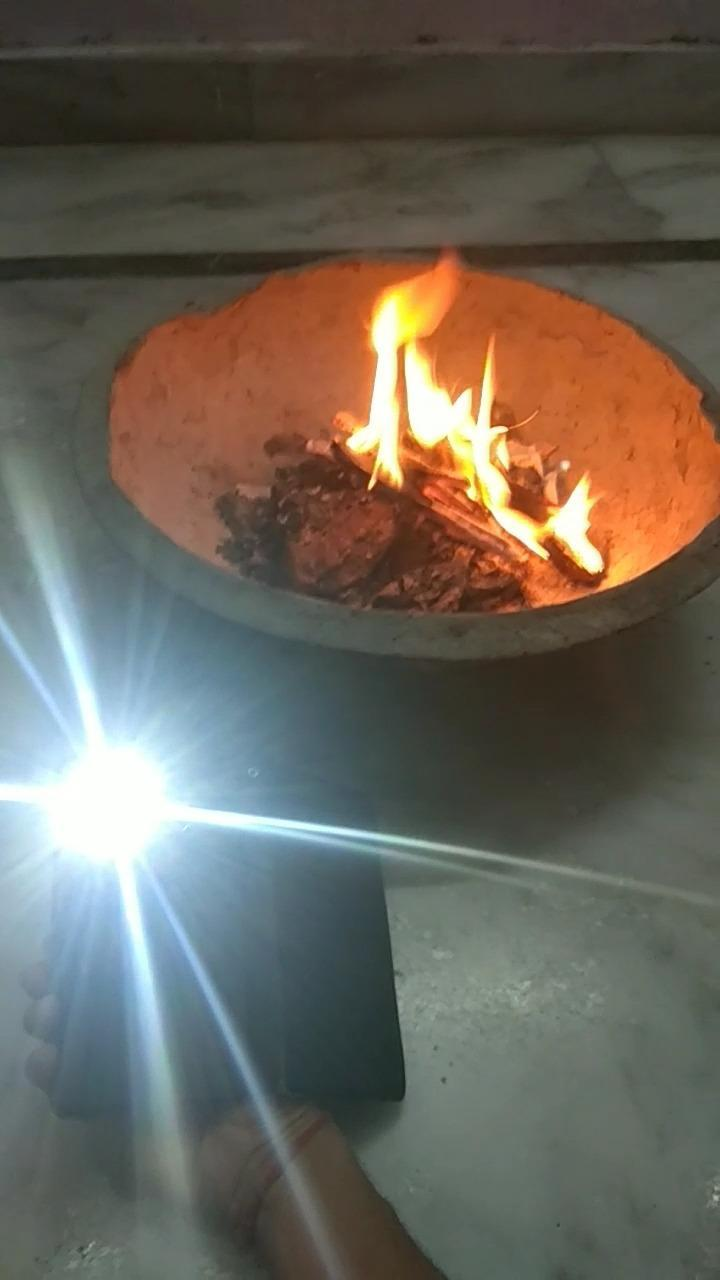fire: (353, 253, 609, 578)
